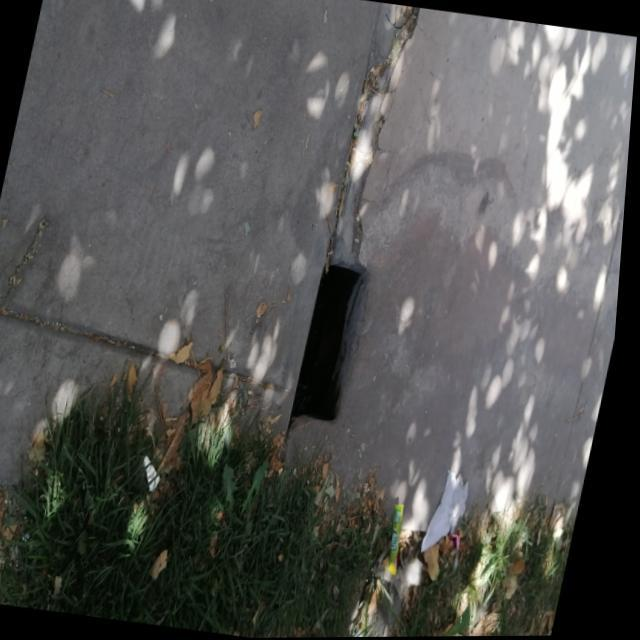hole: (283, 251, 383, 427)
